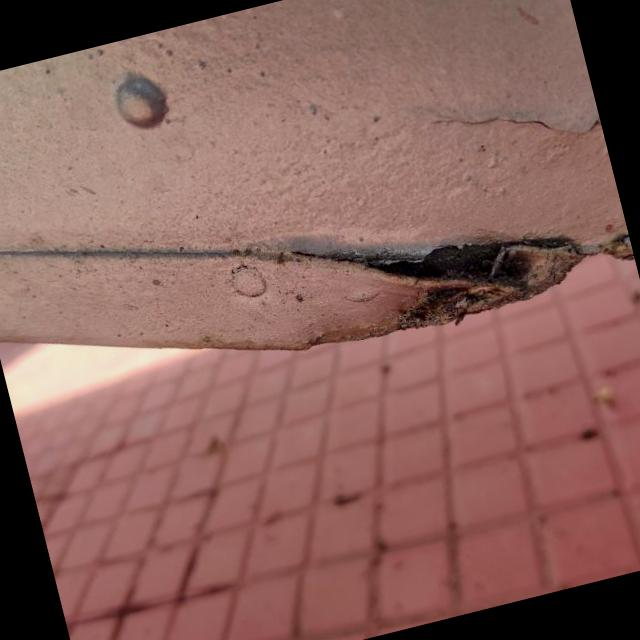crack: (344, 187, 556, 347)
